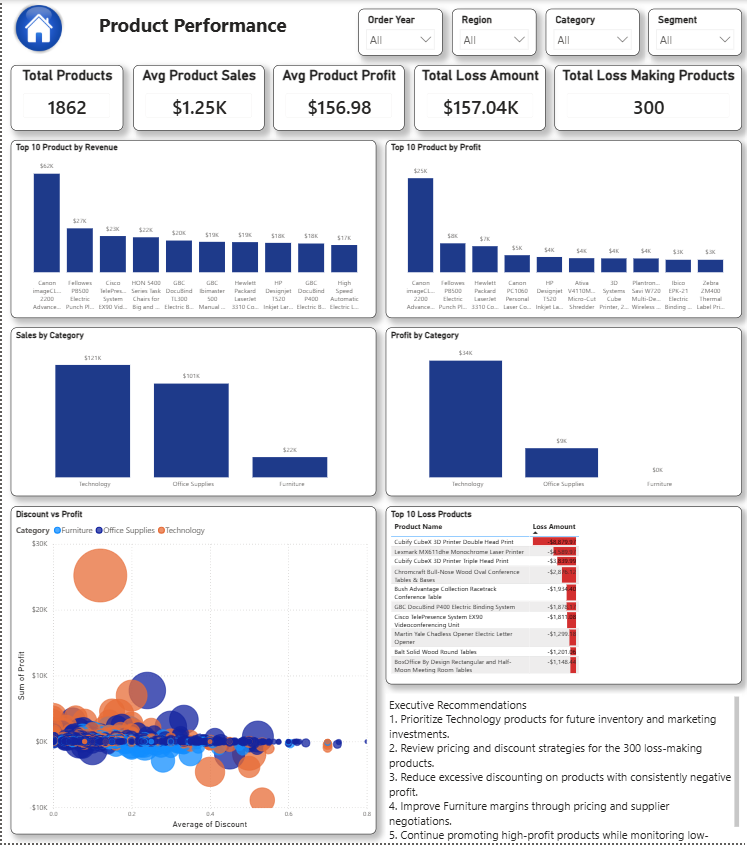

This screenshot's page, from the dashboard's own definition file:
{"tool":"powerbi","page":{"name":"Product Performance","canvas":[1280,1440],"ordinal":3},"visuals":[{"type":"textbox","box":[160,16,336,64],"z":0},{"type":"slicer","fields":{"Values":["samplesuperstore.Order Year"]},"box":[608,16,144,80],"z":1},{"type":"slicer","fields":{"Values":["samplesuperstore.Region"]},"box":[768,16,144,80],"z":2},{"type":"slicer","fields":{"Values":["samplesuperstore.Category"]},"box":[928,16,160,80],"z":3},{"type":"slicer","fields":{"Values":["samplesuperstore.Segment"]},"box":[1104,16,160,80],"z":4},{"type":"cardVisual","title":"Total Products","fields":{"Data":["samplesuperstore.Total Products"]},"box":[16,112,192,112],"z":5},{"type":"cardVisual","title":"Avg Product Sales","fields":{"Data":["samplesuperstore.Avg Product Sales"]},"box":[224,112,224,112],"z":6},{"type":"cardVisual","title":"Avg Product Profit","fields":{"Data":["samplesuperstore.Avg Product Profit"]},"box":[464,112,224,112],"z":7},{"type":"cardVisual","title":"Total Loss Making Products","fields":{"Data":["samplesuperstore.Total Loss Making Products"]},"box":[944,112,320,112],"z":8},{"type":"cardVisual","title":"Total Loss Amount","fields":{"Data":["samplesuperstore.Total Loss Amount"]},"box":[704,112,224,112],"z":9},{"type":"image","box":[16,0,96,96],"z":10},{"type":"columnChart","title":"Top 10 Product by Revenue","fields":{"Y":["Sum(samplesuperstore.Sales)"],"Category":["samplesuperstore.Product Name"]},"box":[16,240,624,304],"z":11},{"type":"columnChart","title":"Top 10 Product by Profit","fields":{"Y":["Sum(samplesuperstore.Profit)"],"Category":["samplesuperstore.Product Name"]},"box":[656,240,608,304],"z":12},{"type":"tableEx","title":"Top 10 Loss Products","fields":{"Values":["samplesuperstore.Product Name","Sum(samplesuperstore.Profit)"]},"box":[656,864,608,304],"z":13},{"type":"columnChart","title":"Sales by Category","fields":{"Y":["Sum(samplesuperstore.Sales)"],"Category":["samplesuperstore.Category"]},"box":[16,560,624,288],"z":14},{"type":"columnChart","title":"Profit by Category","fields":{"Y":["Sum(samplesuperstore.Profit)"],"Category":["samplesuperstore.Category"]},"box":[656,560,608,288],"z":15},{"type":"scatterChart","title":"Discount vs Profit","fields":{"X":["Avg(samplesuperstore.Discount)"],"Y":["Sum(samplesuperstore.Profit)"],"Size":["Sum(samplesuperstore.Sales)"],"Category":["samplesuperstore.Product Name"],"Series":["samplesuperstore.Category"]},"box":[16,864,624,560],"z":16},{"type":"textbox","box":[656,1184,608,256],"z":17}]}

Visuals, with their boxes in screenshot pixels (x1, y1, x2, y2), scaled from the page's 1280x1440 canvas onto the 747x846 screenshot:
textbox: 93 9 289 47
slicer - samplesuperstore.Order Year: 355 9 439 56
slicer - samplesuperstore.Region: 448 9 532 56
slicer - samplesuperstore.Category: 542 9 635 56
slicer - samplesuperstore.Segment: 644 9 738 56
"Total Products" cardVisual: 9 66 121 132
"Avg Product Sales" cardVisual: 131 66 261 132
"Avg Product Profit" cardVisual: 271 66 402 132
"Total Loss Making Products" cardVisual: 551 66 738 132
"Total Loss Amount" cardVisual: 411 66 542 132
image: 9 0 65 56
"Top 10 Product by Revenue" columnChart: 9 141 374 320
"Top 10 Product by Profit" columnChart: 383 141 738 320
"Top 10 Loss Products" tableEx: 383 508 738 686
"Sales by Category" columnChart: 9 329 374 498
"Profit by Category" columnChart: 383 329 738 498
"Discount vs Profit" scatterChart: 9 508 374 837
textbox: 383 696 738 845
